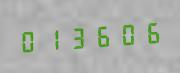one: (41, 23, 64, 54)
six: (90, 20, 113, 51), (138, 16, 161, 47)
three: (66, 21, 89, 53)
zero: (17, 25, 40, 56), (114, 18, 137, 49)
